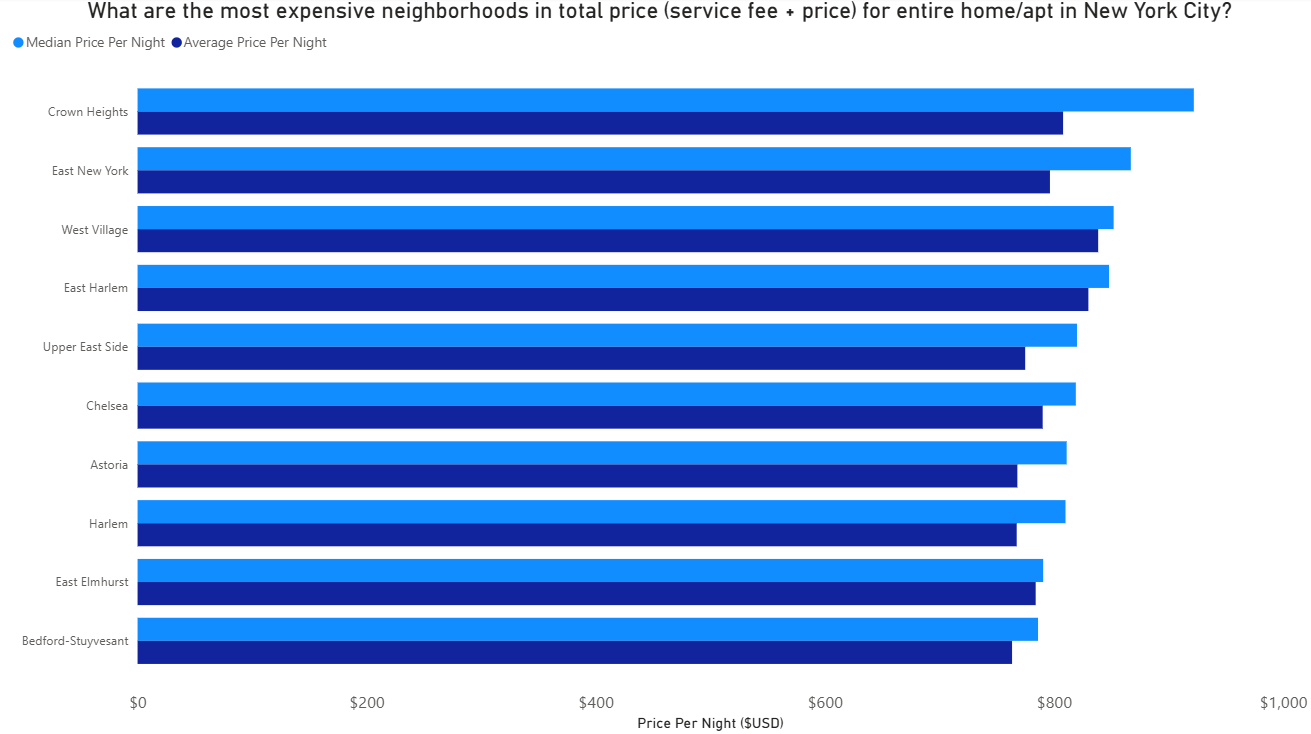

Layout of this report page (visuals, bound fields, positions):
{"tool":"powerbi","page":{"name":"Query_5","canvas":[1280,720],"ordinal":4},"visuals":[{"type":"clusteredBarChart","title":"What are the most expensive neighborhoods in total price (service fee + price) for entire home/apt in New York City?","fields":{"Category":["Query_5.neighborhood"],"Y":["Sum(Query_5.total_median_price_per_night)","Sum(Query_5.avg_total_price_per_night)"]},"box":[9.7,0,1270.3,719.8],"z":0}]}

Visuals, with their boxes in screenshot pixels (x1, y1, x2, y2), scaled from the page's 1280x720 canvas onto the 1311x734 screenshot:
"What are the most expensive neighborhoods in total price (service fee + price) for entire home/apt in New York City?" clusteredBarChart: l=10, t=0, r=1310, b=733
